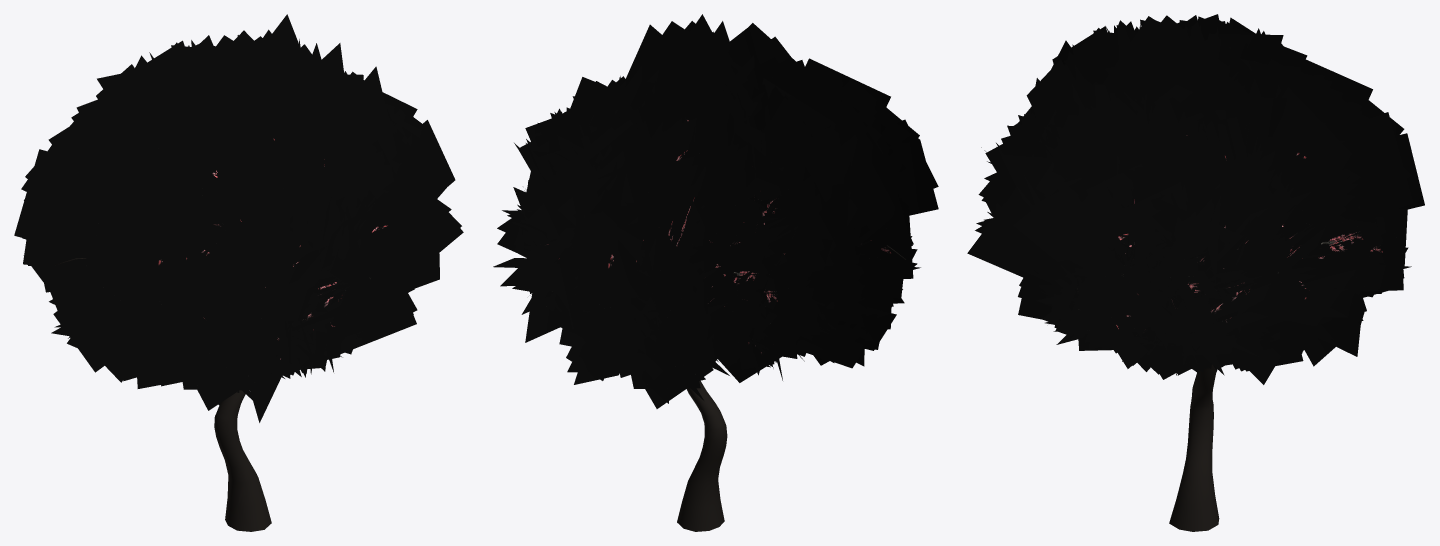
Rendered from Tree Blossom.FBX.
The picture shows the model from 3 angles, left to right: view 1: azimuth 30°, elevation 25°; view 2: azimuth 150°, elevation 25°; view 3: azimuth 270°, elevation 25°; orthographic projection. The views are drawn at different scales.
Visible parts, largest first — view 1: Tree Blossom; view 2: Tree Blossom; view 3: Tree Blossom.
Boxes of the visible parts, left/top/right/bottom form: Tree Blossom: left=14, top=14, right=463, bottom=531; Tree Blossom: left=493, top=14, right=938, bottom=531; Tree Blossom: left=967, top=14, right=1424, bottom=531.
Bounding box in the file's own units: 1505 × 1850 × 1506.
